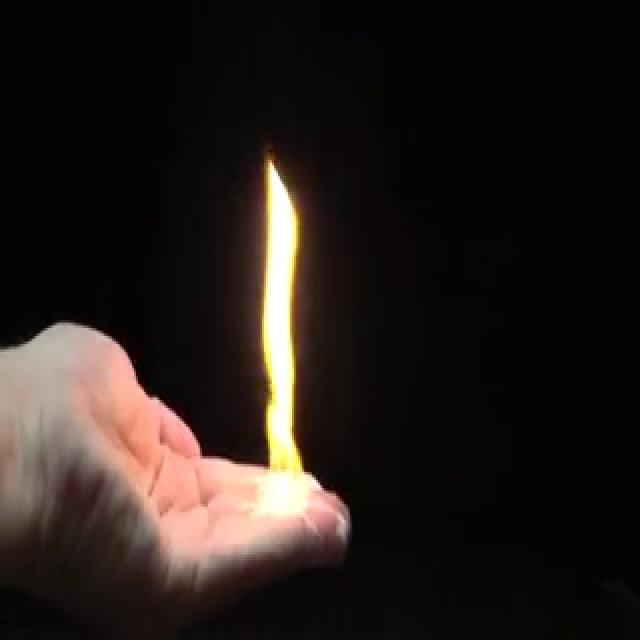fire: (253, 145, 309, 526)
